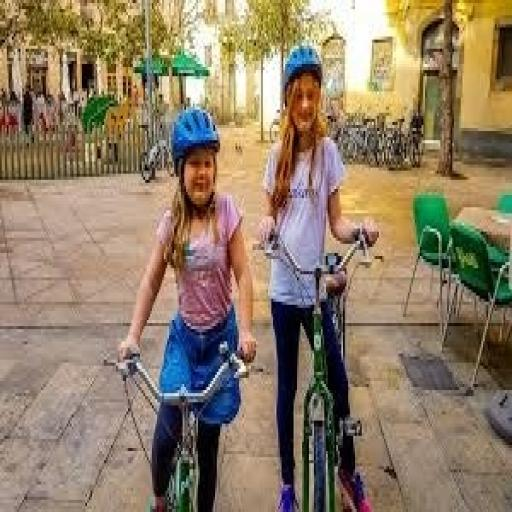cycling: (114, 104, 260, 509), (256, 40, 382, 509)
